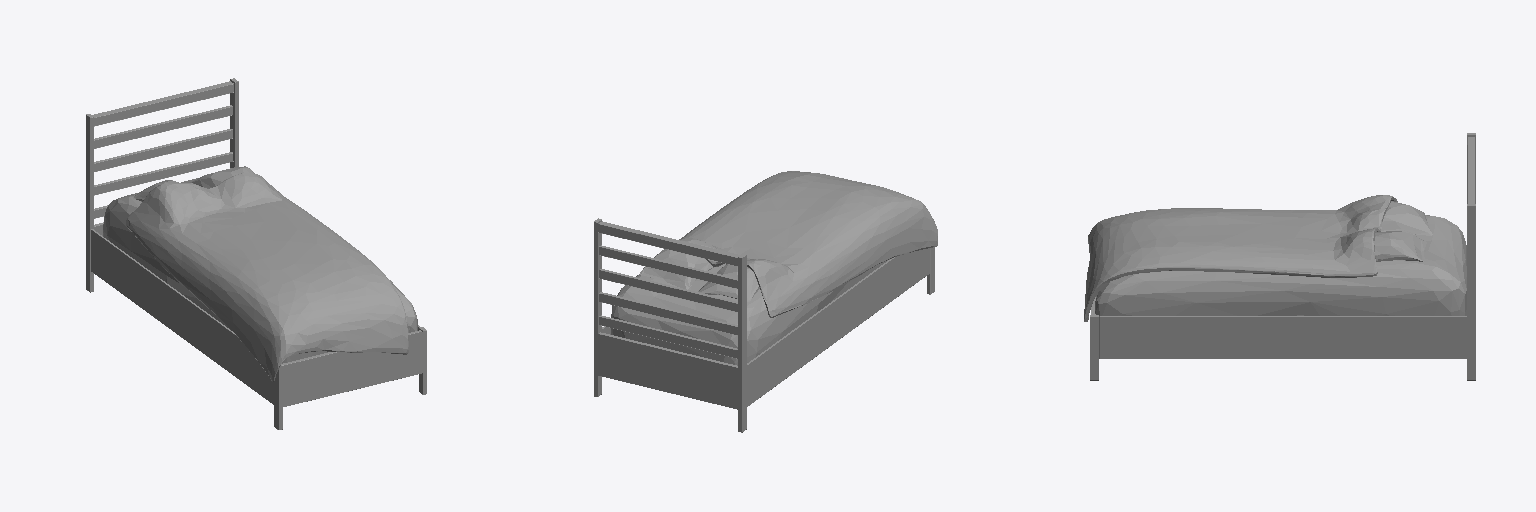
The model's file is bed_single_reduced.obj.
3 renders of one model, left to right at view 1: azimuth 30°, elevation 25°; view 2: azimuth 150°, elevation 25°; view 3: azimuth 270°, elevation 25°, orthographic.
Visible parts, largest first — view 1: mmGroup0; view 2: mmGroup0; view 3: mmGroup0.
Part boxes in pixels (x1,y1,x2,y2): mmGroup0: (86,78,426,429); mmGroup0: (594,171,937,432); mmGroup0: (1084,133,1475,380).
Bounding box in the file's own units: 0.9638 × 1.05 × 2.14.